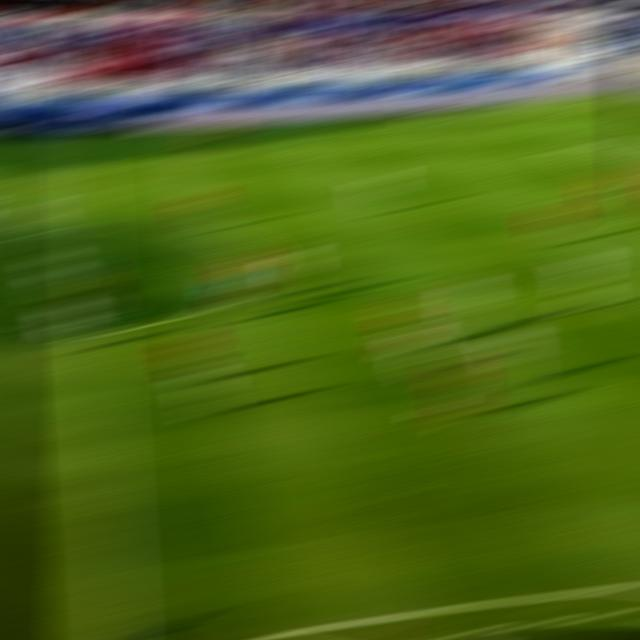bigarea_top_inner: (547, 141, 585, 154)
halfcircle_bottom: (76, 322, 119, 344)
halfcircle_top: (66, 217, 111, 236)
midline_top_intersection: (62, 138, 102, 153)
top_arc_area_intersection: (620, 177, 640, 190)
